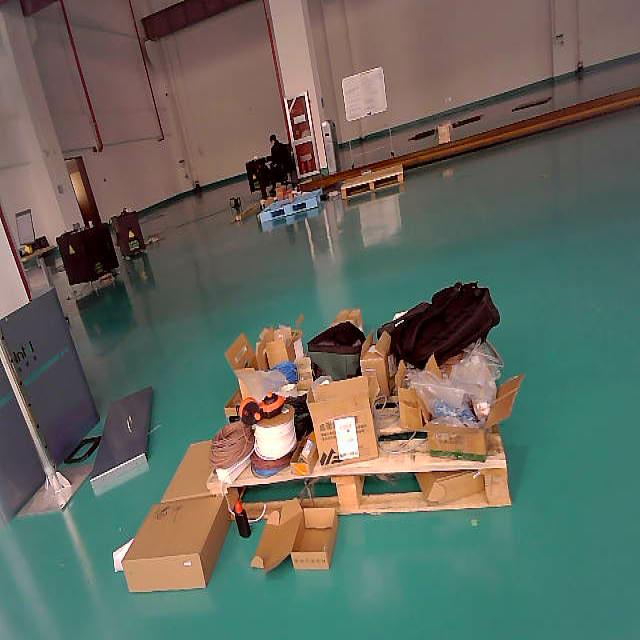euro: (224, 452, 511, 513), (341, 164, 403, 199)
